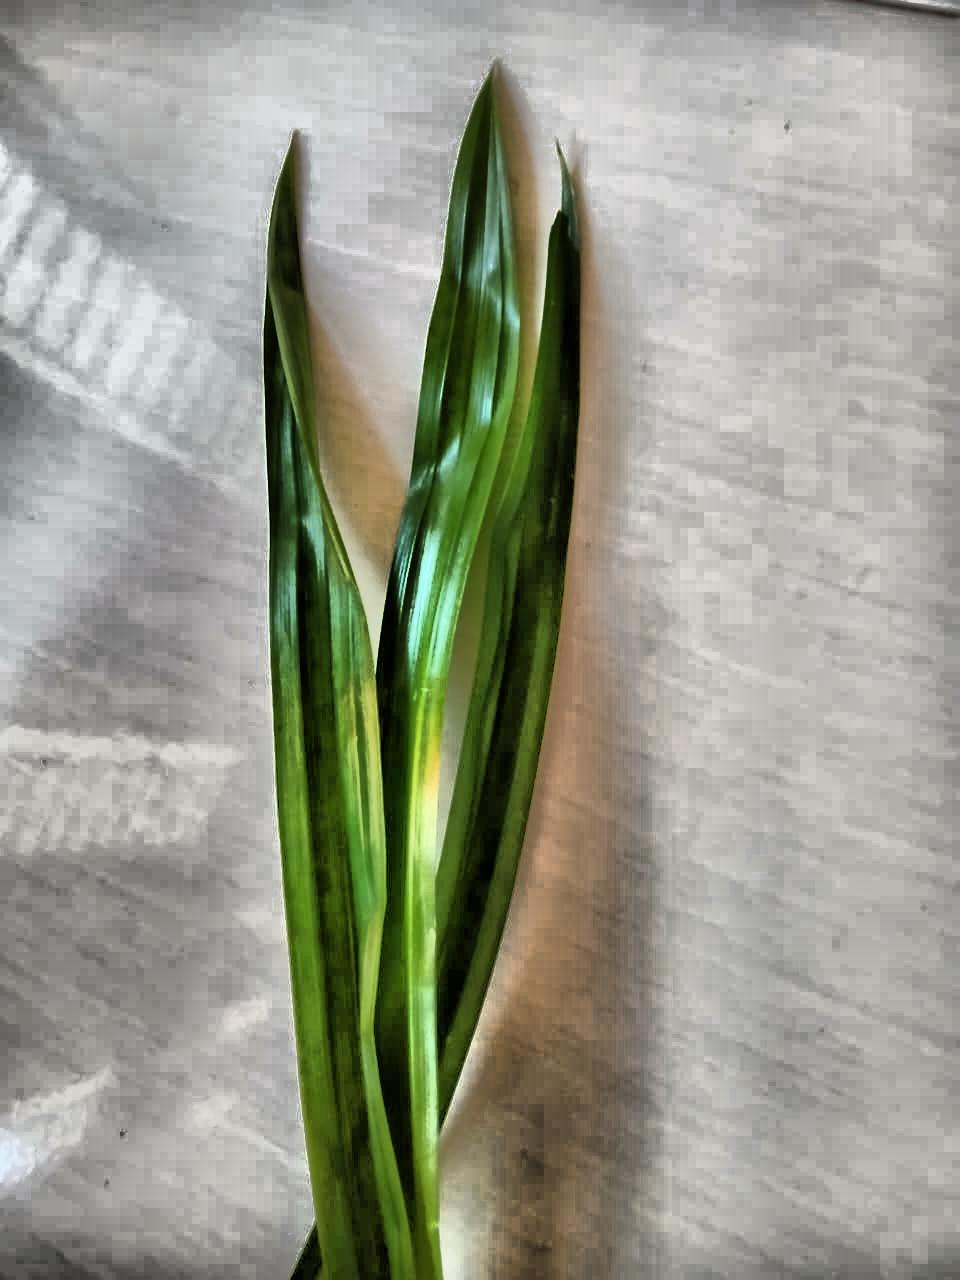daun pandan: (263, 74, 581, 1279)
